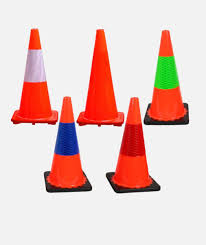cones: (103, 97, 163, 201), (37, 94, 97, 197), (10, 25, 64, 131), (146, 28, 194, 133), (81, 28, 125, 131)
